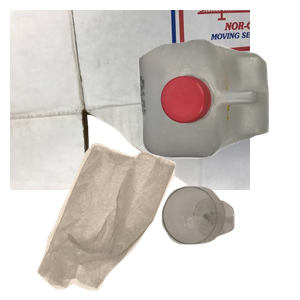cardboard: (10, 10, 250, 190)
glass: (159, 184, 300, 300)
plastic: (136, 37, 300, 188)
trash: (35, 140, 203, 300)
